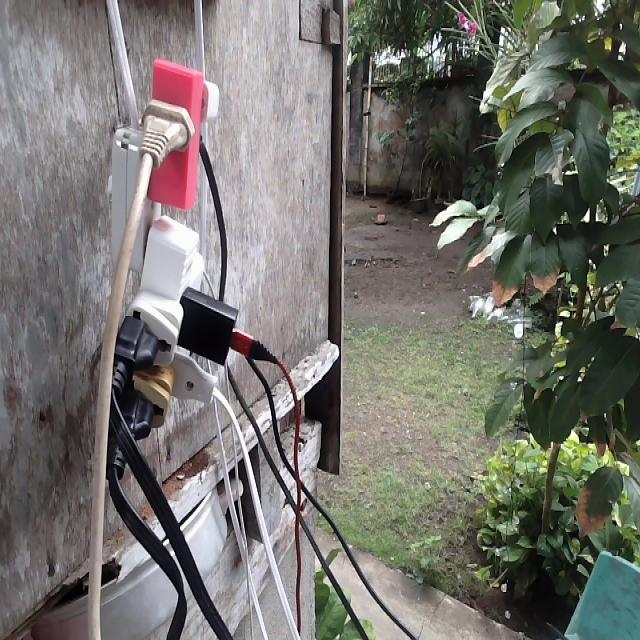-: (96, 56, 259, 481)
